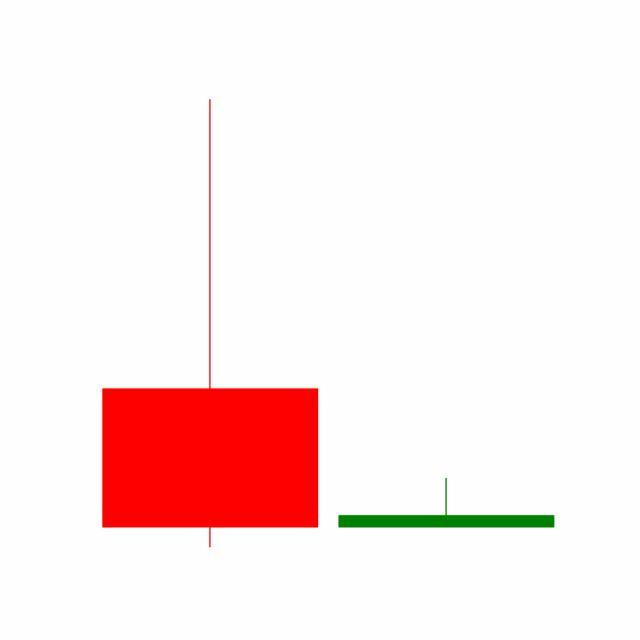Gravestone Doji: (328, 479, 566, 530)
